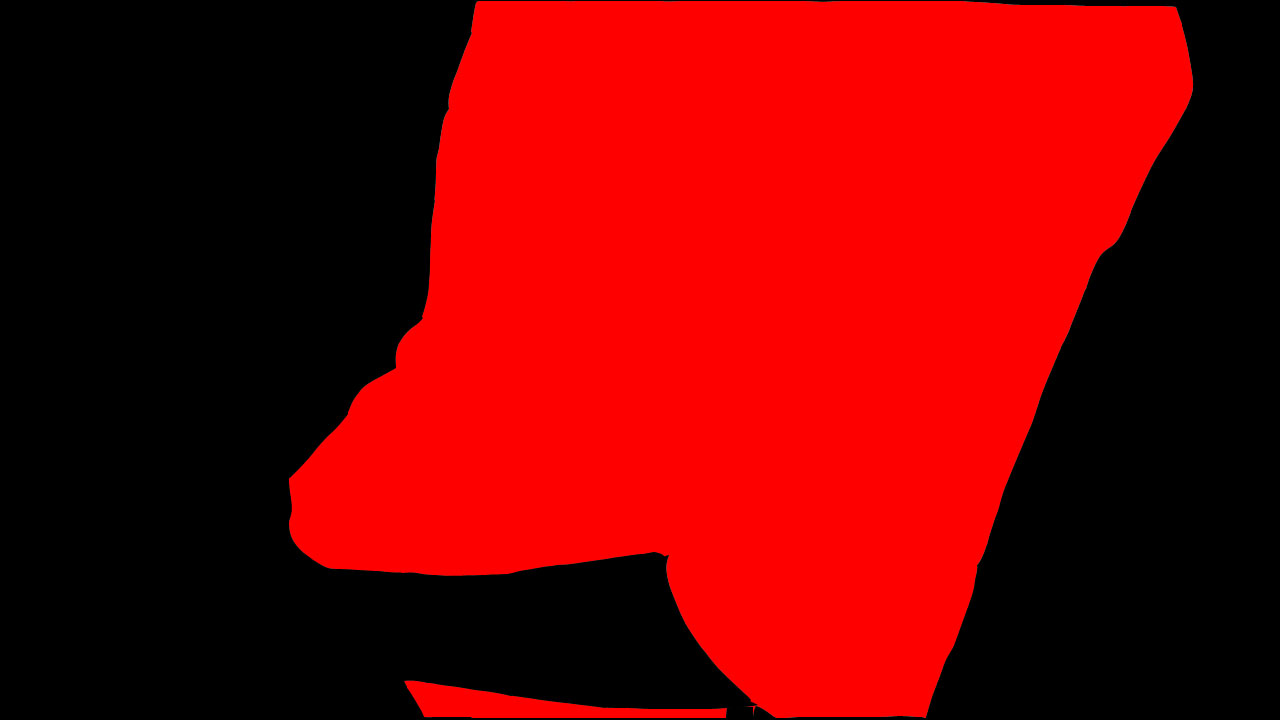uniforme_ifmt: (286, 3, 1194, 720)
